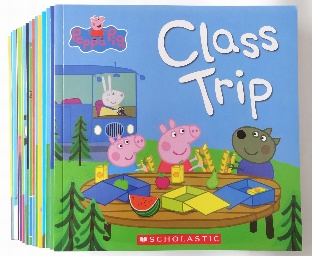Peppa: (155, 119, 203, 175)
